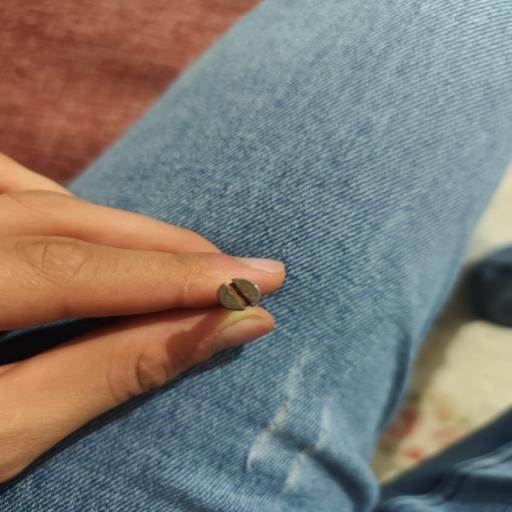Slotted: (213, 274, 266, 314)
